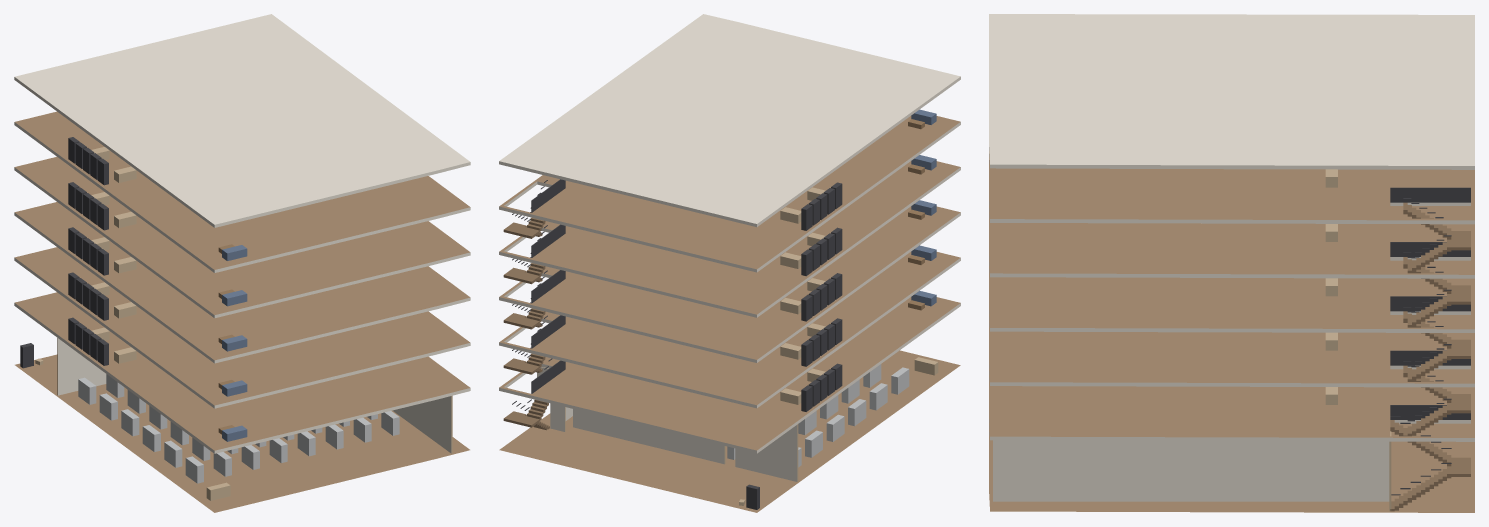
File: interior.glb
3 views of the same model, side by side, from view 1: azimuth 30°, elevation 25°; view 2: azimuth 150°, elevation 25°; view 3: azimuth 270°, elevation 25° (orthographic). The views are drawn at different scales.
Parts seen in each view (by area): view 1: slabs, coarse-s0, partitions, coarse-s1, coarse-s4, coarse-s3, coarse-s5, coarse-s2; view 2: slabs, partitions, stair, coarse-s0, coarse-s1, coarse-s5, coarse-s2, coarse-s3, coarse-s4; view 3: slabs, partitions, stair.
Part boxes in pixels (x1=…): slabs: x1=14, y1=14, x2=470, y2=512; coarse-s0: x1=20, y1=343, x2=399, y2=500; partitions: x1=57, y1=338, x2=452, y2=453; coarse-s1: x1=68, y1=317, x2=247, y2=441; coarse-s4: x1=68, y1=182, x2=247, y2=306; coarse-s3: x1=68, y1=227, x2=247, y2=351; coarse-s5: x1=68, y1=137, x2=247, y2=260; coarse-s2: x1=68, y1=272, x2=247, y2=396; slabs: x1=499, y1=14, x2=960, y2=512; partitions: x1=537, y1=367, x2=798, y2=481; stair: x1=503, y1=179, x2=565, y2=430; coarse-s0: x1=727, y1=357, x2=938, y2=509; coarse-s1: x1=780, y1=290, x2=936, y2=411; coarse-s5: x1=780, y1=109, x2=936, y2=230; coarse-s2: x1=780, y1=245, x2=936, y2=366; coarse-s3: x1=780, y1=200, x2=936, y2=321; coarse-s4: x1=780, y1=155, x2=936, y2=276; slabs: x1=989, y1=14, x2=1474, y2=512; partitions: x1=993, y1=431, x2=1391, y2=511; stair: x1=1390, y1=187, x2=1470, y2=511.
Bounding box in the file's own units: 22.23 × 23.66 × 30.01.
